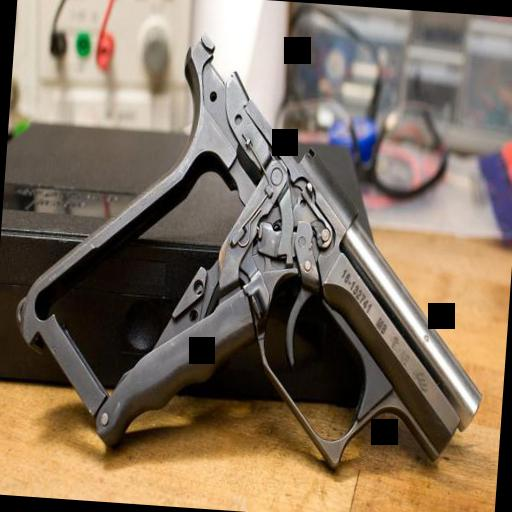Handgun: (0, 5, 507, 494)
